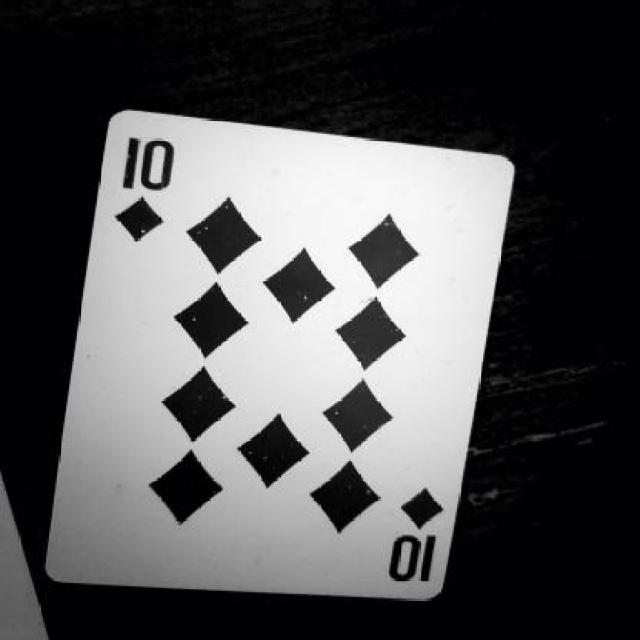10D: (101, 131, 210, 243), (370, 470, 464, 588)
